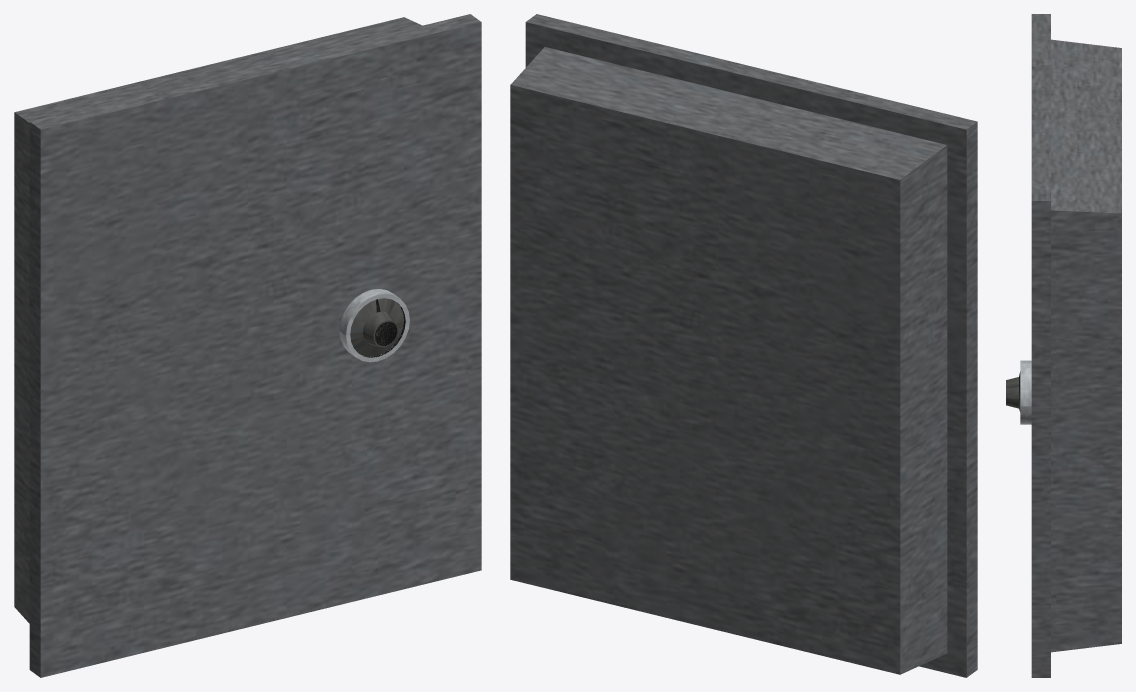
Rendered from board.dae.
The picture shows the model from 3 angles, left to right: view 1: azimuth 30°, elevation 25°; view 2: azimuth 150°, elevation 25°; view 3: azimuth 270°, elevation 25°; orthographic projection. The views are drawn at different scales.
Parts seen in each view (by area): view 1: group_88.006, group_88.005, group_89.017, group_89.020; view 2: group_88.005, group_88.006; view 3: group_88.005, group_88.006, group_89.020, group_89.017.
Part boxes in pixels (<box>): group_88.006: <box>29,14,481,677</box>; group_88.005: <box>14,17,421,623</box>; group_89.017: <box>350,298,403,356</box>; group_89.020: <box>339,289,409,362</box>; group_88.005: <box>510,47,947,674</box>; group_88.006: <box>525,14,977,677</box>; group_88.005: <box>1051,39,1121,652</box>; group_88.006: <box>1031,14,1050,677</box>; group_89.020: <box>1020,360,1031,424</box>; group_89.017: <box>1006,376,1020,411</box>.
Size of the model in its own units: 0.6791 by 0.1777 by 0.8071.
Materials: 4 (4 with a texture image).
